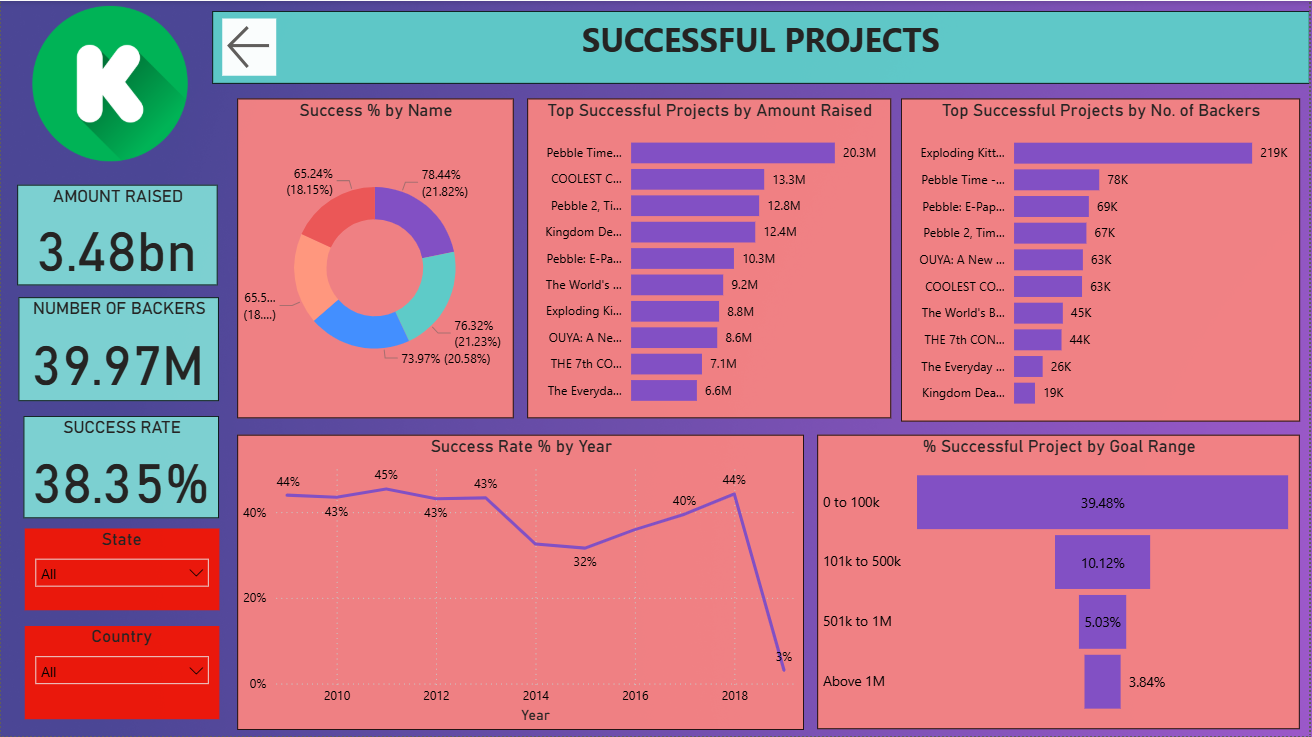

The page's visual inventory and layout, read from the dashboard file:
{"tool":"powerbi","page":{"name":"SpotLight","canvas":[1280,720],"ordinal":1},"visuals":[{"type":"textbox","box":[206.7,9.8,1073.6,70.9],"z":0},{"type":"actionButton","box":[216.4,17.1,52.6,56.3],"z":1000},{"type":"card","title":"AMOUNT RAISED","fields":{"Values":["Project.Amount Raised"]},"box":[15.7,180,195.7,98.6],"z":2000},{"type":"card","title":"NUMBER OF BACKERS","fields":{"Values":["Project.Backers (Successful)"]},"box":[17.1,290,195.7,101.4],"z":3000},{"type":"funnel","title":"% Successful Project by Goal Range","fields":{"Category":["Project.Goal_Bin"],"Y":["Project.Success Rate %"]},"box":[798.6,424,472,288.2],"z":4000},{"type":"barChart","title":"Top Successful Projects by Amount Raised","fields":{"Y":["Project.Amount Raised"],"Category":["Project.name"]},"box":[514.3,95.7,355.7,312.9],"z":5000},{"type":"barChart","title":"Top Successful Projects by No. of Backers ","fields":{"Category":["Project.name"],"Y":["Project.Backers (Successful)"]},"box":[880,95.7,390,315.7],"z":6000},{"type":"lineChart","fields":{"Category":["Calendar_Table.Date.Variation.Date Hierarchy.Year","Calendar_Table.Date.Variation.Date Hierarchy.Quarter","Calendar_Table.Date.Variation.Date Hierarchy.Month","Calendar_Table.Date.Variation.Date Hierarchy.Day"],"Y":["Project.Success Rate %"]},"box":[231.4,424.3,554.3,288.6],"z":7000},{"type":"image","box":[15.1,0,183.9,161.9],"z":8000},{"type":"slicer","title":"State","fields":{"Values":["Project.state"]},"box":[22.9,515.7,190,80],"z":9000},{"type":"donutChart","title":"Success  % by Name","fields":{"Y":["Project.Success Rate %"],"Category":["Project.category_id"]},"box":[231.4,95.7,270,312.9],"z":10000},{"type":"slicer","title":"Country","fields":{"Values":["Project.country"]},"box":[22.9,611.4,190,91.4],"z":11000},{"type":"card","title":"SUCCESS RATE","fields":{"Values":["Project.Success Rate %"]},"box":[21.4,405.7,191.4,100],"z":12000}]}

Visuals, with their boxes in screenshot pixels (x1, y1, x2, y2), scaled from the page's 1280x720 canvas onto the 1312x737 screenshot:
textbox: Rect(212, 10, 1311, 83)
actionButton: Rect(222, 18, 276, 75)
"AMOUNT RAISED" card: Rect(16, 184, 217, 285)
"NUMBER OF BACKERS" card: Rect(18, 297, 218, 401)
"% Successful Project by Goal Range" funnel: Rect(819, 434, 1302, 729)
"Top Successful Projects by Amount Raised" barChart: Rect(527, 98, 892, 418)
"Top Successful Projects by No. of Backers " barChart: Rect(902, 98, 1302, 421)
lineChart - Calendar_Table.Date.Variation.Date Hierarchy.Year x Calendar_Table.Date.Variation.Date Hierarchy.Quarter: Rect(237, 434, 805, 730)
image: Rect(15, 0, 204, 166)
"State" slicer: Rect(23, 528, 218, 610)
"Success  % by Name" donutChart: Rect(237, 98, 514, 418)
"Country" slicer: Rect(23, 626, 218, 719)
"SUCCESS RATE" card: Rect(22, 415, 218, 518)
